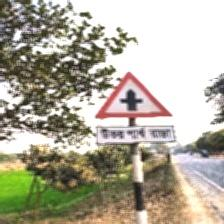Crossroad: (94, 71, 176, 146)
